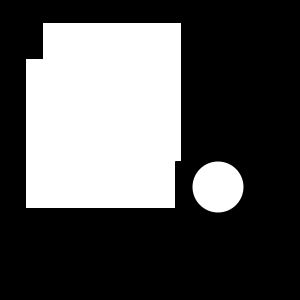circle: (26, 59, 175, 208), (43, 23, 181, 161)
rectangle: (63, 83, 179, 199), (193, 162, 244, 212)
